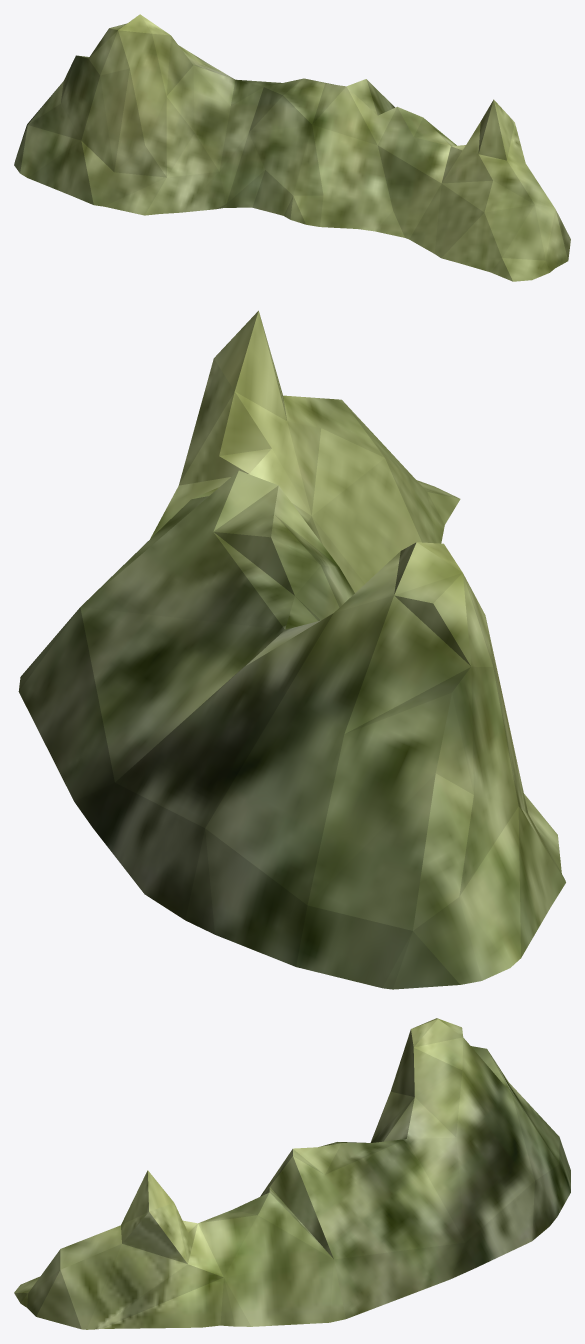
3 views of the same model, one above another, from view 1: azimuth 30°, elevation 25°; view 2: azimuth 150°, elevation 25°; view 3: azimuth 270°, elevation 25° (orthographic). The views are drawn at different scales.
Bounding box in the file's own units: 1.33 × 0.6097 × 1.76.
Materials: 1 (1 with a texture image).
